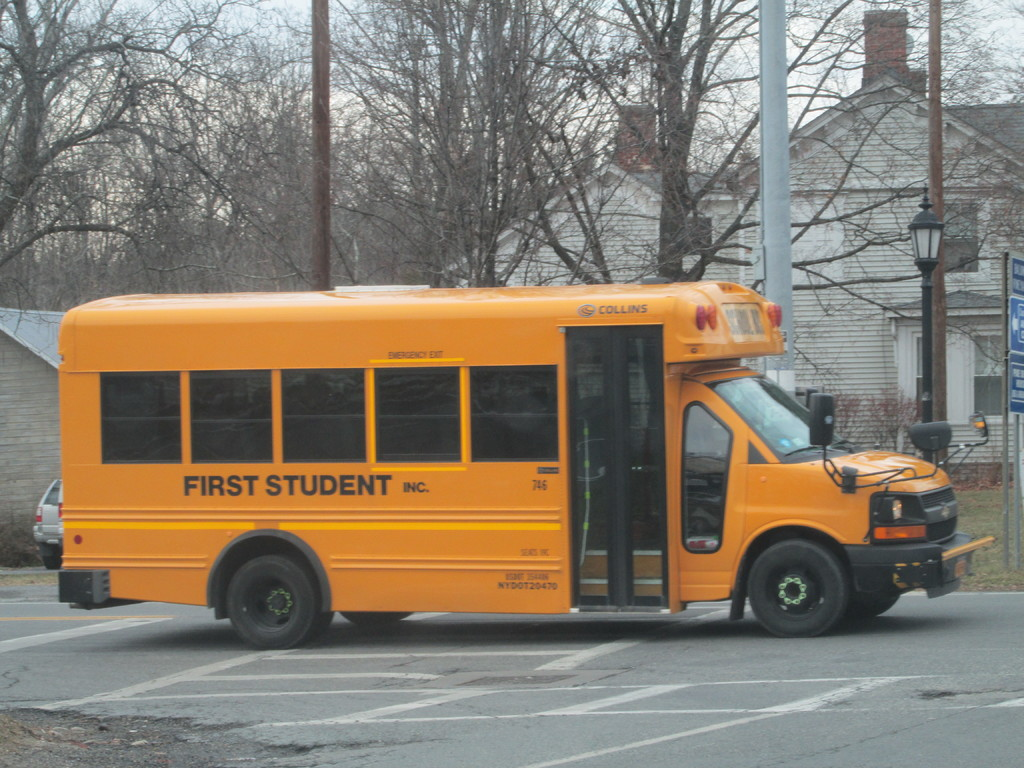Bus: (58, 277, 1003, 642)
